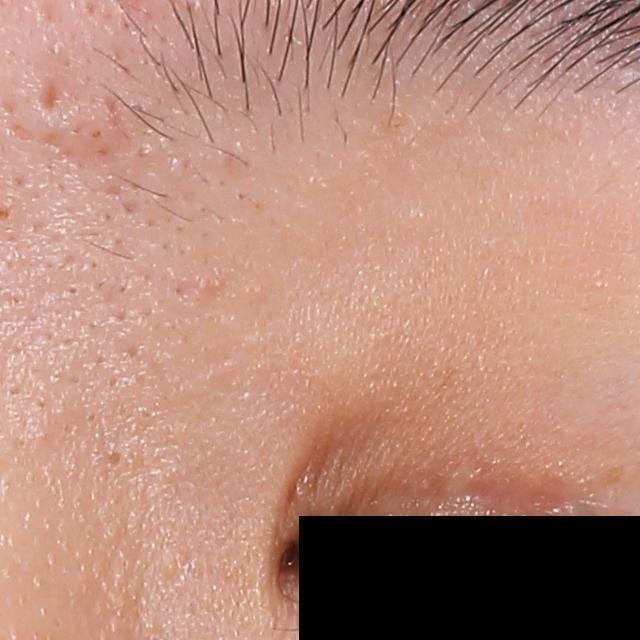atrophic_scar: (37, 75, 61, 115)
comedo: (103, 445, 130, 473), (61, 280, 85, 301)
